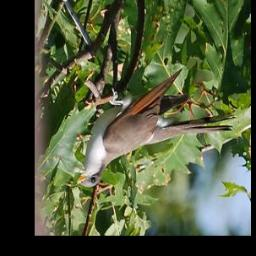Cuckoo: (77, 69, 237, 189)
